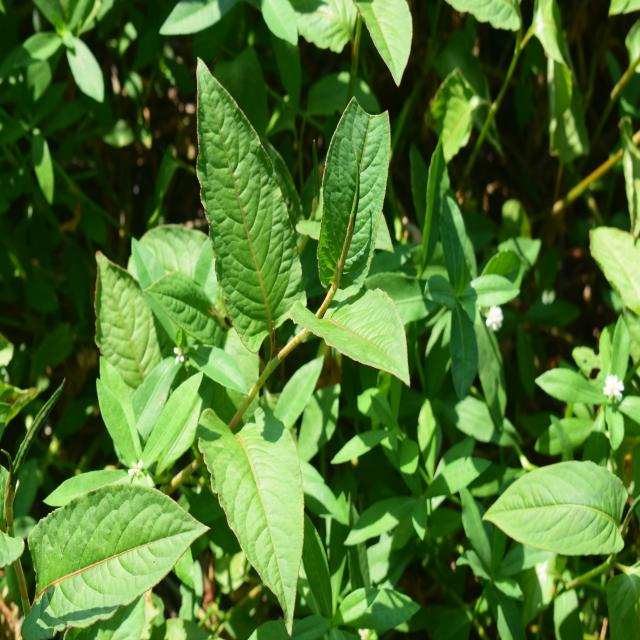Chinese_knotweed: (178, 58, 397, 578)
